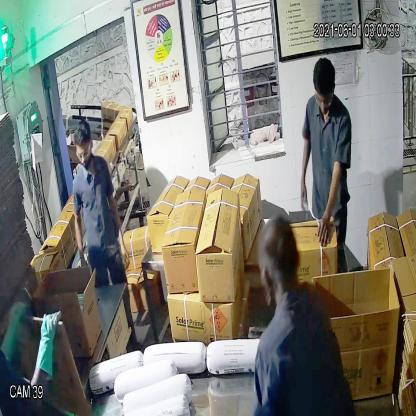goggles: (70, 140, 100, 166)
